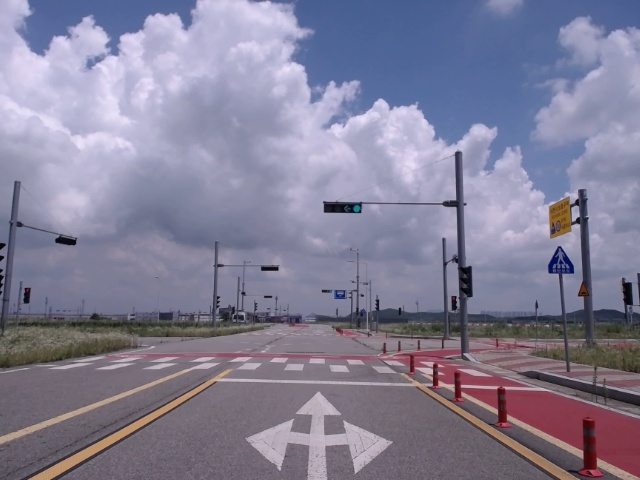all_green_4: (321, 203, 365, 215)
